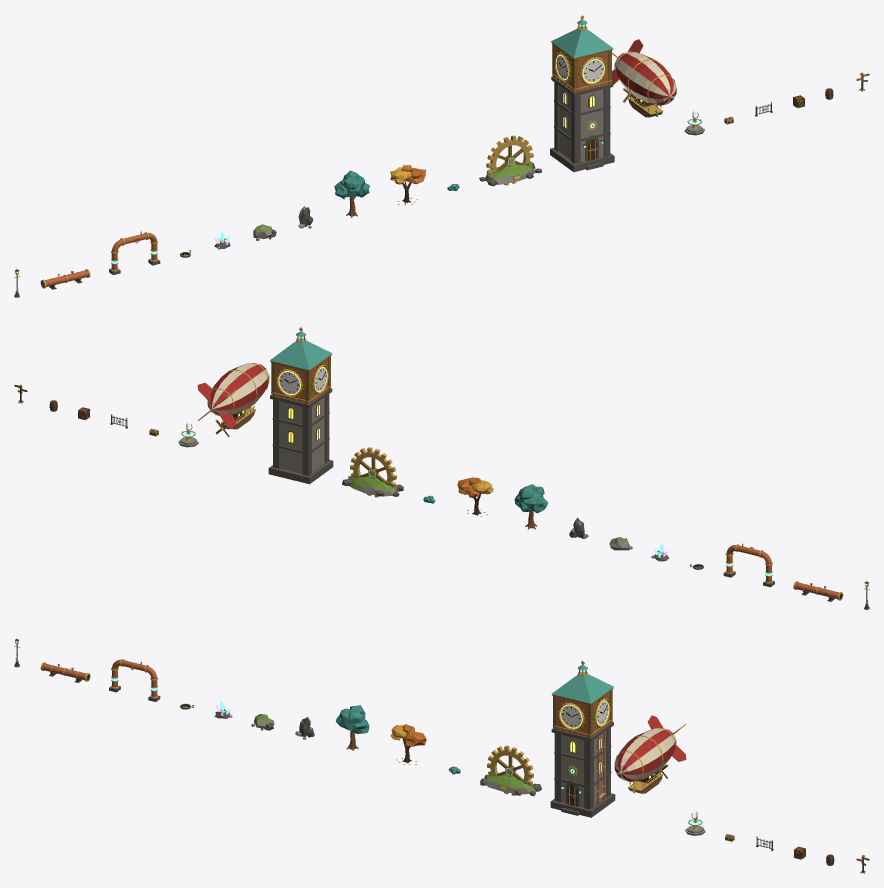
Rendered from props.glb.
3 renders of one model, top to bottom at view 1: azimuth 30°, elevation 25°; view 2: azimuth 150°, elevation 25°; view 3: azimuth 330°, elevation 25°, orthographic.
Visible parts, largest first — view 1: prop_clocktower_stone, prop_clocktower_metal, prop_airship_envelope, prop_gear_monument_gear, prop_gear_monument_base, prop_pipe_arch_body, prop_tree_canopy, prop_tree_b_canopy; view 2: prop_clocktower_stone, prop_clocktower_metal, prop_airship_envelope, prop_gear_monument_gear, prop_gear_monument_base, prop_pipe_arch_body, prop_tree_canopy, prop_tree_b_canopy; view 3: prop_clocktower_stone, prop_clocktower_metal, prop_airship_envelope, prop_gear_monument_gear, prop_gear_monument_base, prop_pipe_arch_body, prop_tree_canopy, prop_tree_b_canopy.
Part boxes in pixels (x1,y1,x2,y2): prop_clocktower_stone: (550,76,614,172); prop_clocktower_metal: (551,15,613,160); prop_airship_envelope: (612,39,676,105); prop_gear_monument_gear: (486,135,533,185); prop_gear_monument_base: (479,163,541,186); prop_pipe_arch_body: (109,231,160,275); prop_tree_canopy: (334,170,369,199); prop_tree_b_canopy: (390,165,426,205); prop_clocktower_stone: (268,388,333,484); prop_clocktower_metal: (270,326,332,443); prop_airship_envelope: (197,362,269,429); prop_gear_monument_gear: (350,447,396,497); prop_gear_monument_base: (342,476,403,496); prop_pipe_arch_body: (723,543,774,587); prop_tree_canopy: (514,484,547,513); prop_tree_b_canopy: (457,477,493,516); prop_clocktower_stone: (550,722,615,817); prop_clocktower_metal: (551,660,613,806); prop_airship_envelope: (614,715,686,781); prop_gear_monument_gear: (487,745,533,795); prop_gear_monument_base: (480,773,541,796); prop_pipe_arch_body: (109,659,160,701); prop_tree_canopy: (336,705,369,735); prop_tree_b_canopy: (390,724,426,764).
Size of the model in its own units: 113 by 19.19 by 12.04.
